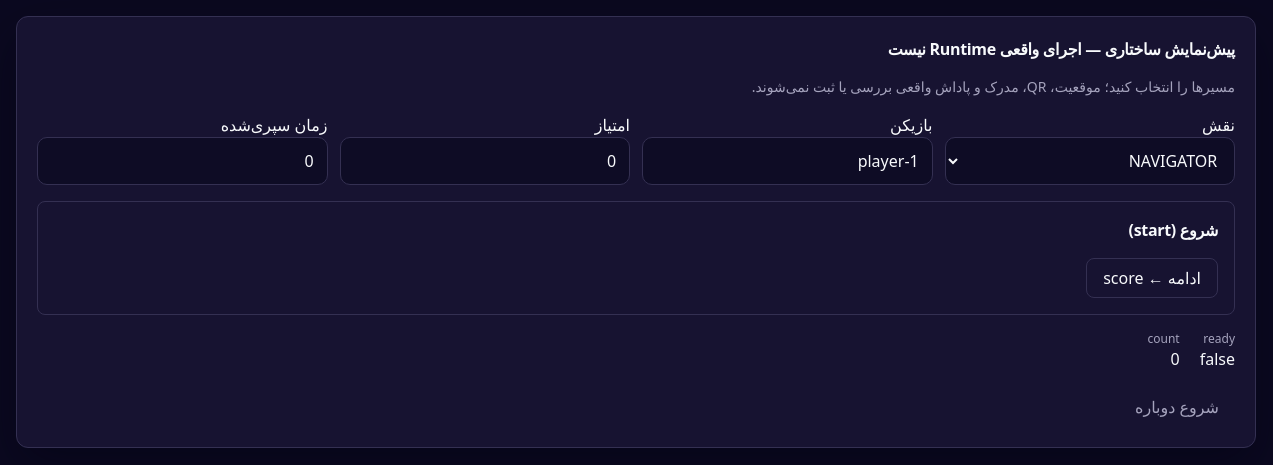
previews branch traversal and score without network mutations
Expected: the heading "پیش‌نمایش ساختاری — اجرای واقعی Runtime نیست" is shown, [888, 38, 1235, 60]
Click the button "ادامه ← score" at (1152, 278), box [1086, 258, 1218, 298]
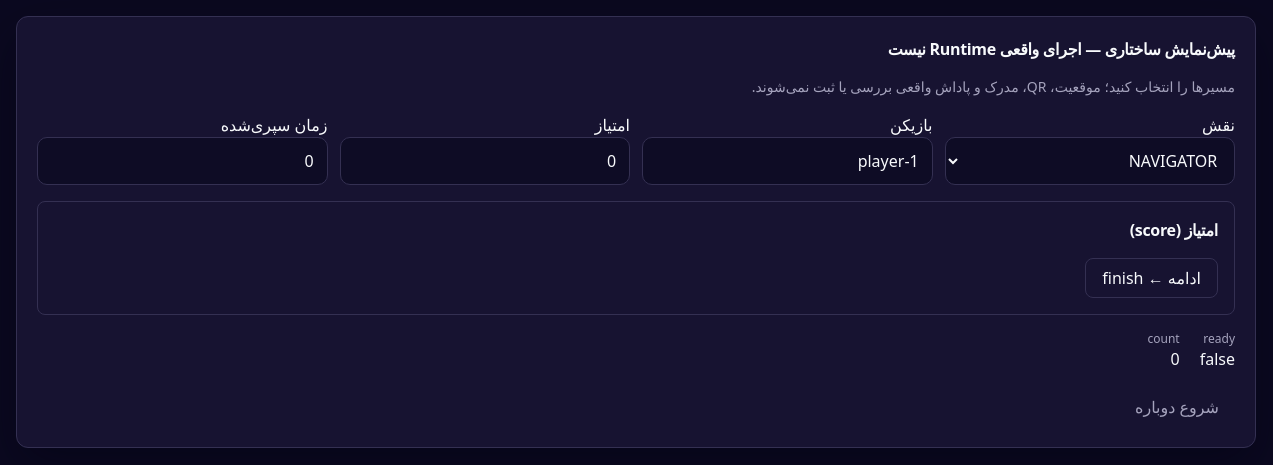
Click the button "ادامه ← finish" at (1152, 278), box [1085, 258, 1218, 298]
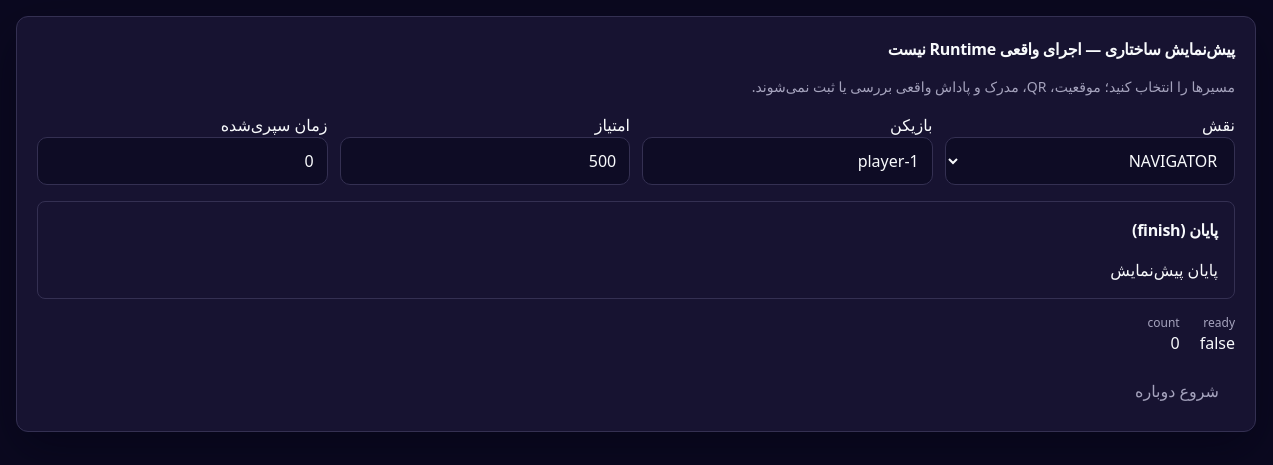
Expected: the number field named "امتیاز پیش‌نمایش" holds "500", [340, 137, 630, 185]
Expected: the message reads "پایان پیش‌نمایش", [1110, 259, 1218, 281]
